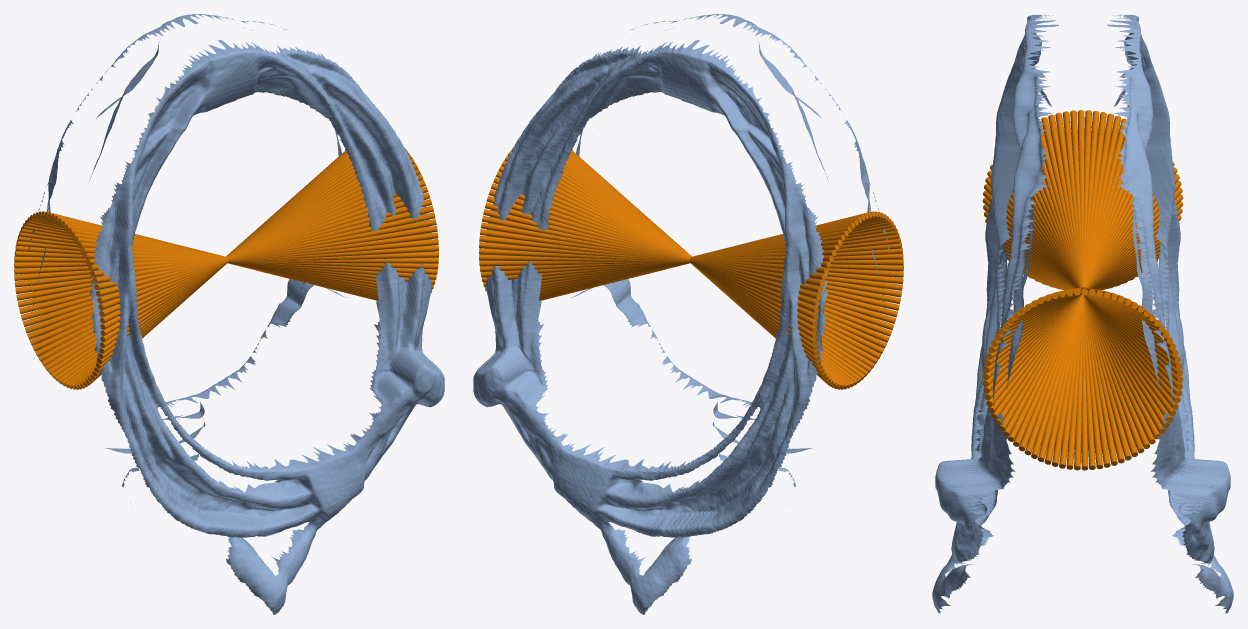
Rendered from A20021008_6145-37-530-7647_DigitalTwin.glb.
3 renders of one model, left to right at view 1: azimuth 30°, elevation 25°; view 2: azimuth 150°, elevation 25°; view 3: azimuth 270°, elevation 25°, orthographic. The views are drawn at different scales.
Visible parts, largest first — view 1: world; view 2: world; view 3: world.
Boxes of the visible parts, x1,y1,x2,y2 form: world: [14, 14, 444, 614]; world: [473, 14, 903, 614]; world: [932, 14, 1233, 613].
Size of the model in its own units: 257 by 389 by 181.
